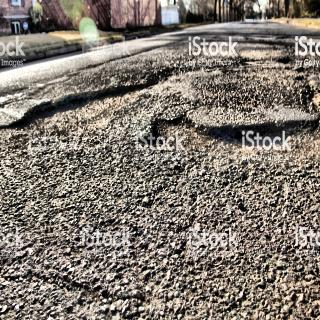pothole: (150, 112, 320, 165), (0, 79, 159, 131)
